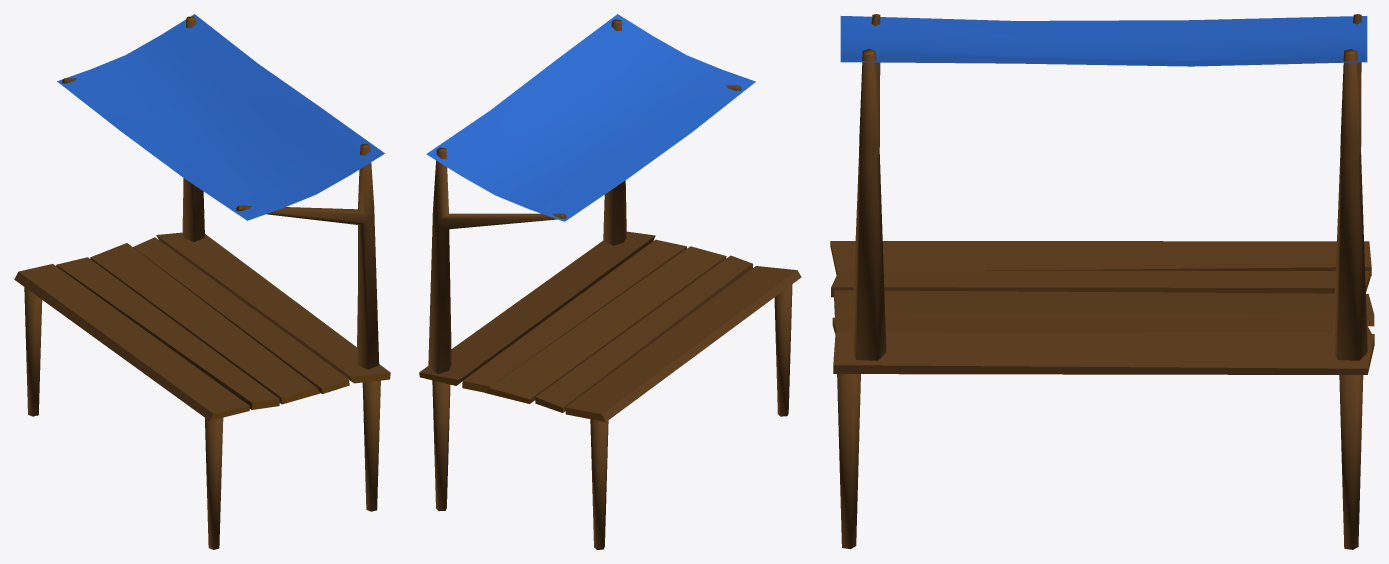
Rendered from Stall.glb.
3 renders of one model, left to right at view 1: azimuth 30°, elevation 25°; view 2: azimuth 150°, elevation 25°; view 3: azimuth 270°, elevation 25°, orthographic. The views are drawn at different scales.
Parts seen in each view (by area): view 1: Plane, Cube.007, Cube.005, Cube.008, Cube.004, Cube.006, Cylinder.012, Cylinder.010, Cylinder.008, Cylinder.009, Cylinder.011; view 2: Plane, Cube.007, Cube.005, Cube.008, Cube.004, Cube.006, Cylinder.011, Cylinder.009, Cylinder.007, Cylinder.010, Cylinder.012; view 3: Plane, Cube.008, Cube.007, Cube.005, Cube.004, Cylinder.011, Cylinder.012, Cube.006, Cylinder.008, Cylinder.007.
Part boxes in pixels (<box>): Plane: <box>57,14,384,220</box>; Cube.007: <box>14,264,249,420</box>; Cube.005: <box>90,243,320,404</box>; Cube.008: <box>156,232,390,383</box>; Cube.004: <box>56,257,279,409</box>; Cube.006: <box>133,237,349,393</box>; Cylinder.012: <box>236,144,379,369</box>; Cylinder.010: <box>205,417,223,549</box>; Cylinder.008: <box>362,380,380,511</box>; Cylinder.009: <box>24,287,42,416</box>; Cylinder.011: <box>62,16,204,241</box>; Plane: <box>426,14,755,221</box>; Cube.007: <box>565,266,801,421</box>; Cube.005: <box>485,246,726,403</box>; Cube.008: <box>419,231,655,385</box>; Cube.004: <box>535,255,752,412</box>; Cube.006: <box>462,239,686,392</box>; Cylinder.011: <box>428,147,566,373</box>; Cylinder.009: <box>590,419,608,549</box>; Cylinder.007: <box>432,380,450,511</box>; Cylinder.010: <box>774,284,792,416</box>; Cylinder.012: <box>603,19,741,245</box>; Plane: <box>840,16,1367,66</box>; Cube.008: <box>833,332,1374,374</box>; Cube.007: <box>830,241,1371,276</box>; Cube.005: <box>834,290,1374,326</box>; Cube.004: <box>831,270,1370,297</box>; Cylinder.011: <box>1332,14,1367,360</box>; Cylinder.012: <box>851,14,886,360</box>; Cube.006: <box>832,317,1371,333</box>; Cylinder.008: <box>837,374,860,549</box>; Cylinder.007: <box>1339,375,1363,549</box>.
Size of the model in its own units: 1.1 by 2.01 by 2.
